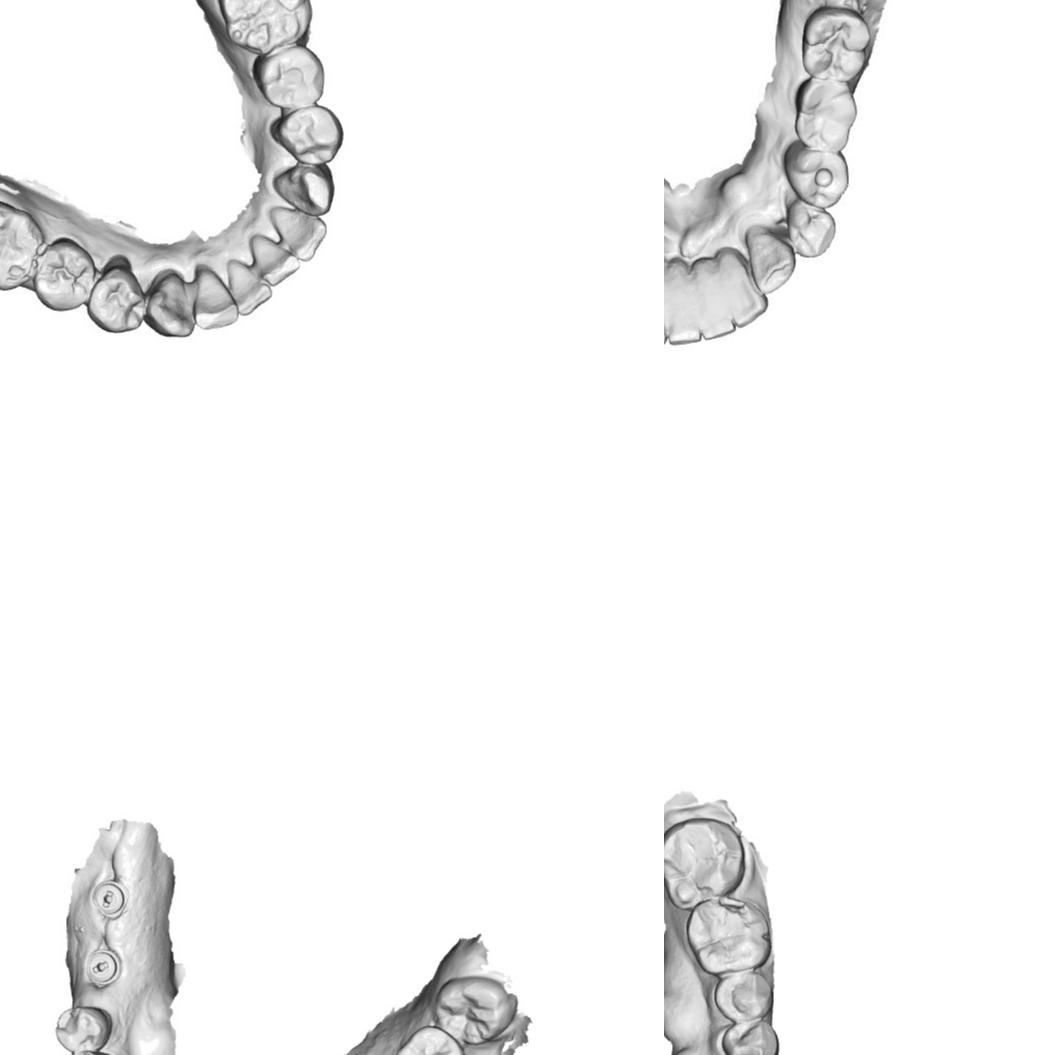canine: (272, 162, 337, 217), (749, 226, 797, 289), (146, 271, 191, 338)
implant_minus: (91, 877, 129, 922), (84, 948, 122, 989)
incisor: (718, 248, 771, 324), (664, 255, 702, 344), (695, 255, 736, 337), (193, 266, 237, 334), (251, 236, 302, 288), (273, 204, 326, 253), (229, 258, 271, 312)
molar: (664, 816, 749, 909), (687, 892, 773, 976), (433, 974, 519, 1048), (217, 0, 308, 52), (801, 11, 864, 82), (797, 78, 858, 148), (0, 200, 35, 291), (391, 1025, 466, 1055)
premolar: (28, 238, 92, 318), (252, 37, 321, 110), (86, 261, 148, 338), (271, 106, 344, 167), (790, 144, 850, 205), (713, 970, 773, 1023), (787, 193, 837, 256), (52, 1004, 113, 1055), (720, 1016, 780, 1055)
